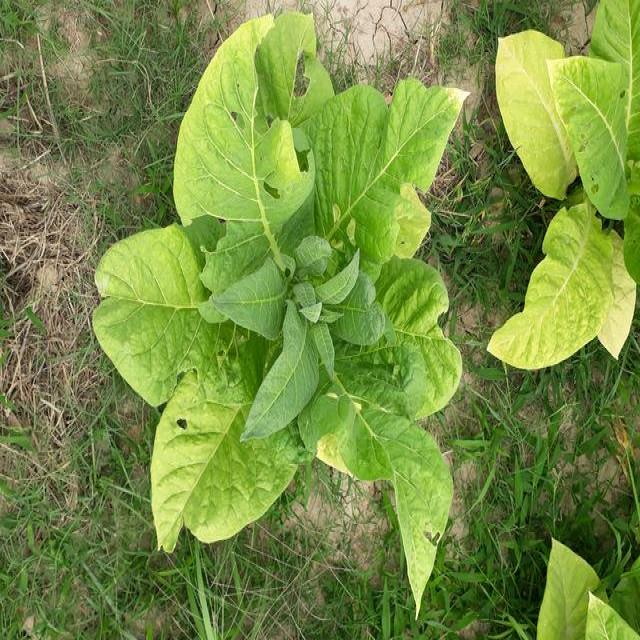crop: (94, 20, 470, 615), (486, 0, 640, 367), (538, 532, 638, 640)
